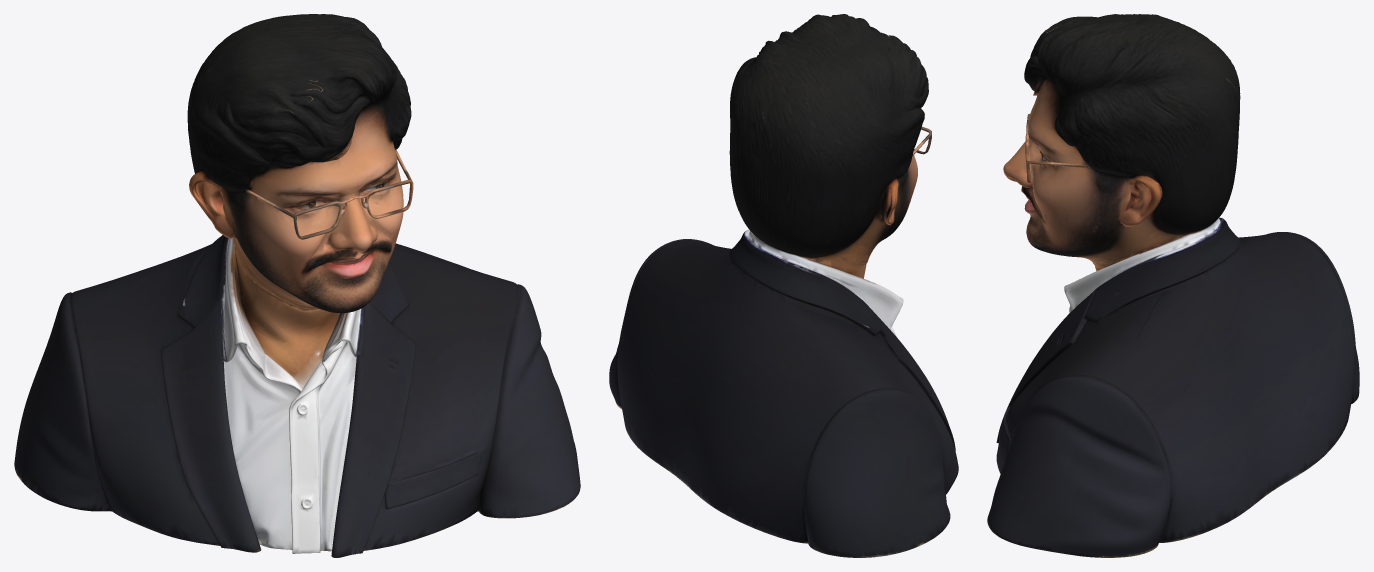
3 views of the same model, side by side, from view 1: azimuth 30°, elevation 25°; view 2: azimuth 150°, elevation 25°; view 3: azimuth 270°, elevation 25° (orthographic). The views are drawn at different scales.
Visible parts, largest first — view 1: node_0; view 2: node_0; view 3: node_0.
Boxes of the visible parts, x1,y1,x2,y2 form: node_0: (14,14,580,557); node_0: (609,14,958,557); node_0: (987,14,1359,557).
Bounding box in the file's own units: 0.7952 × 0.7954 × 0.6311.
1 material, 1 textured.
